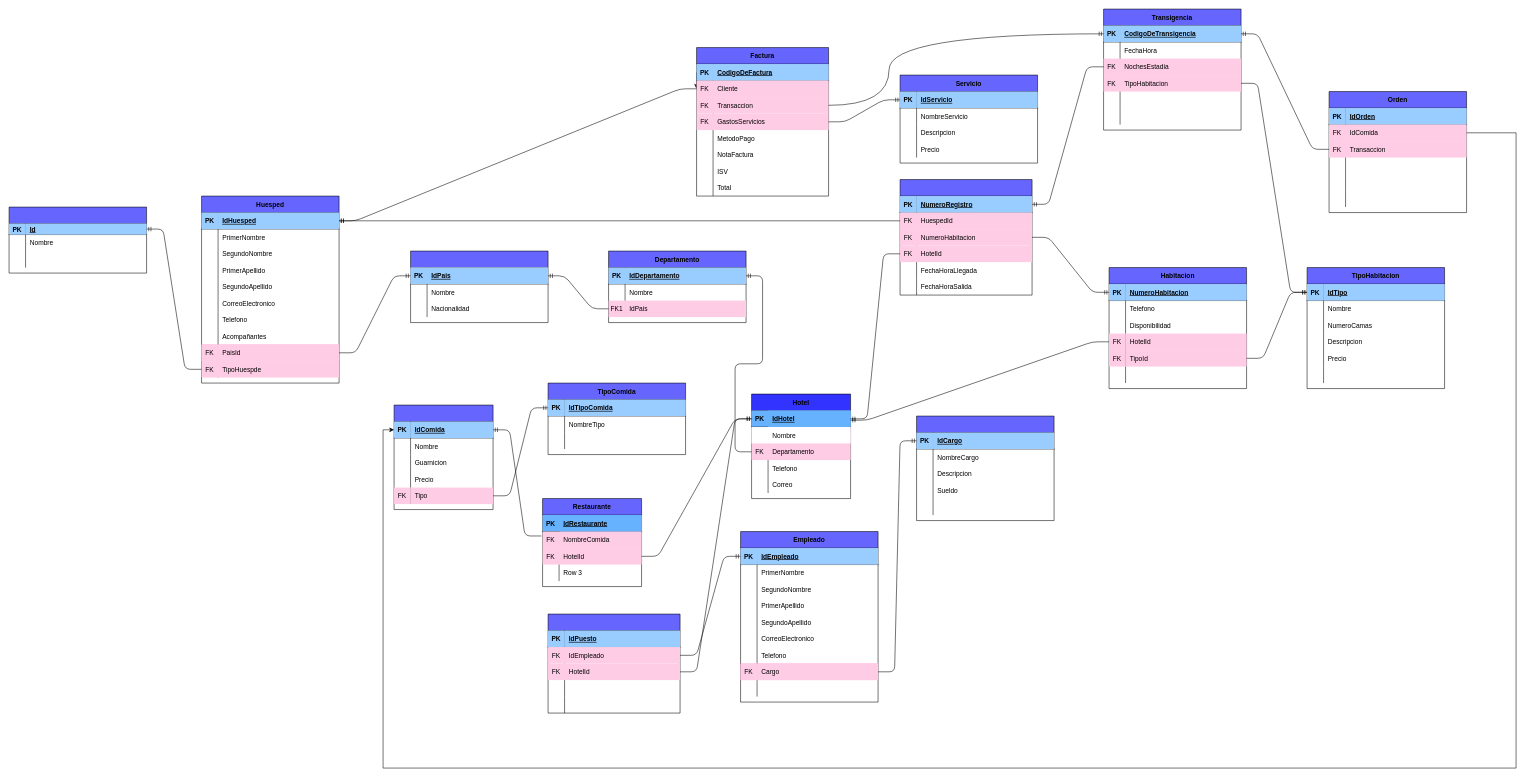
The diagram is 1525 pixels wide and 777 high, and some of its shapes have lost their labels. Here are the shapes that lost their labels. From the top down, the box of each, then its label:
(9, 207, 147, 273): TipoHuesped
(900, 179, 1032, 295): HuespedHabitacion
(410, 251, 548, 323): Paises
(394, 405, 493, 510): ComidaRestaurante
(916, 416, 1054, 521): CargoEmpleado
(548, 614, 680, 713): EmpleadoHotel
